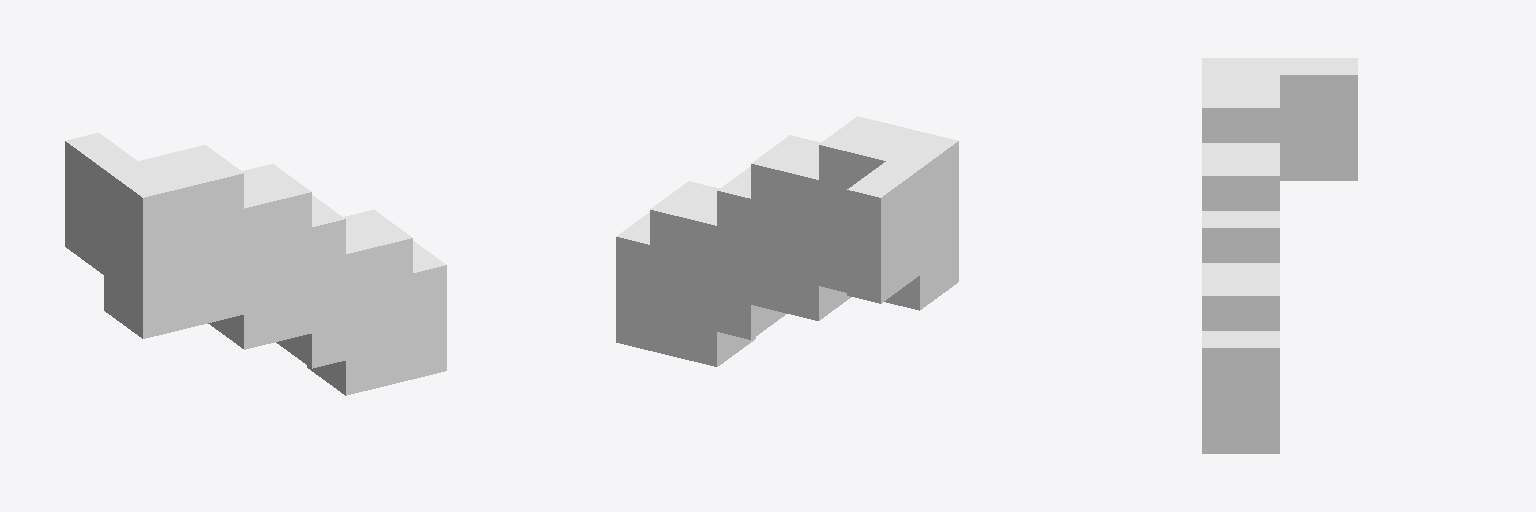
Rendered from cool-trainer-2.obj.
3 renders of one model, left to right at view 1: azimuth 30°, elevation 25°; view 2: azimuth 150°, elevation 25°; view 3: azimuth 270°, elevation 25°, orthographic.
Parts seen in each view (by area): view 1: object 1; view 2: object 1; view 3: object 1.
Boxes of the visible parts, x1=… form: object 1: x1=65, y1=133, x2=446, y2=395; object 1: x1=616, y1=116, x2=958, y2=366; object 1: x1=1202, y1=58, x2=1357, y2=453.
Size of the model in its own units: 0.9 by 0.7 by 0.4.